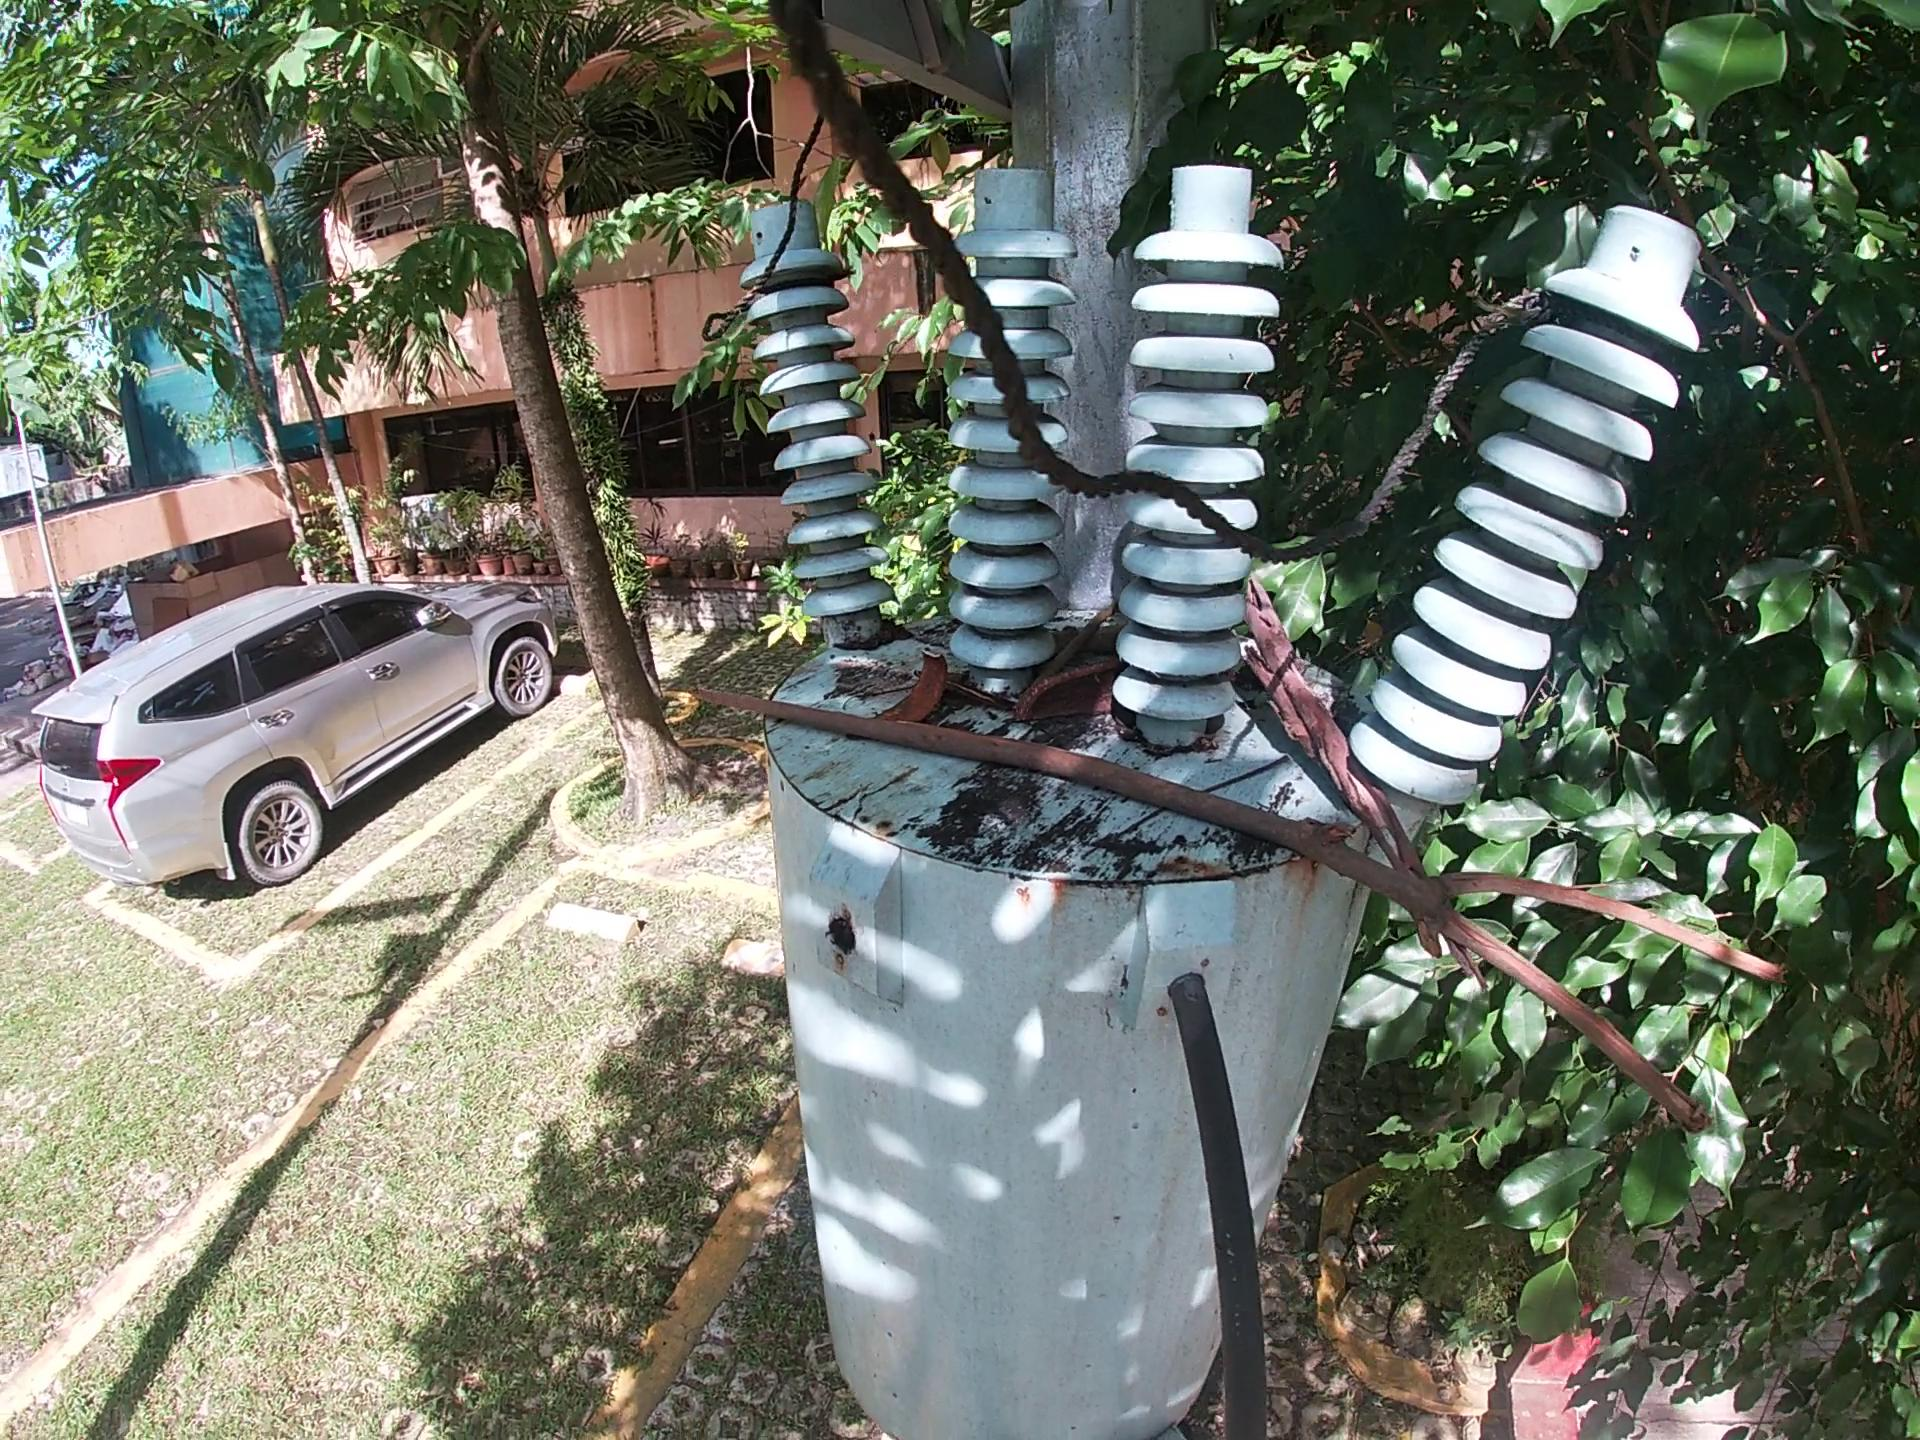mahogany fruit: (996, 672, 1120, 735), (868, 655, 946, 725)
tree branch: (677, 672, 1760, 1137), (1238, 587, 1435, 889), (1079, 753, 1288, 883), (1020, 593, 1116, 669), (1042, 622, 1117, 650), (954, 679, 999, 709)
